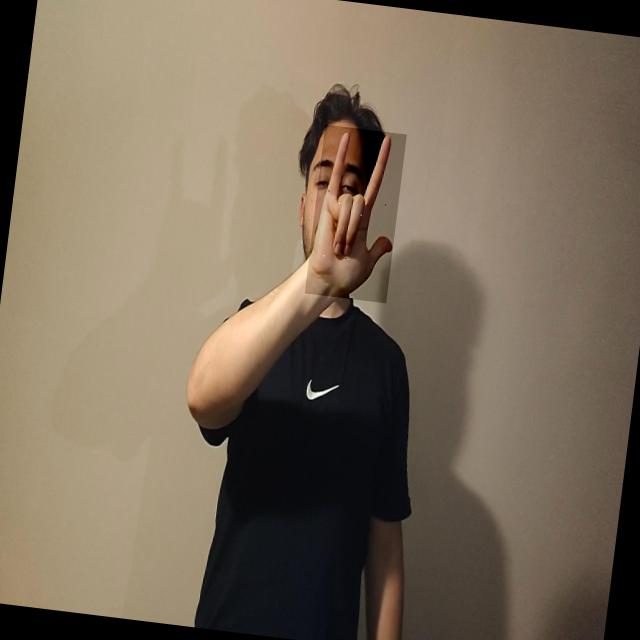iloveyou: (304, 124, 406, 303)
